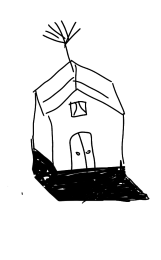door: (64, 127, 106, 174)
open_window: (66, 99, 90, 121)
roof: (26, 58, 136, 116)
shadow: (20, 160, 150, 213)
smoking_chimney: (39, 15, 87, 79)
wall: (45, 88, 129, 178)
